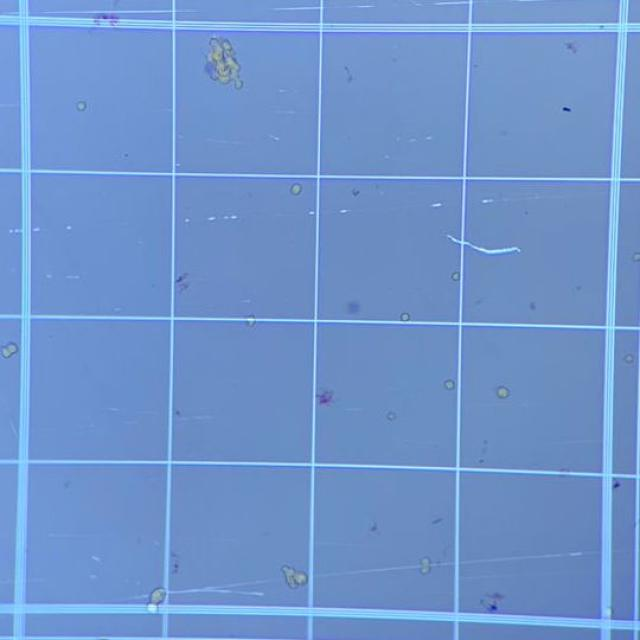Cell: (150, 586, 166, 605), (1, 342, 18, 359), (144, 603, 160, 619), (294, 571, 308, 587), (280, 564, 294, 579), (347, 301, 361, 314), (419, 553, 432, 567), (496, 386, 510, 398), (286, 577, 298, 590), (245, 314, 256, 328), (290, 183, 302, 195), (603, 605, 614, 618), (399, 312, 411, 323), (76, 101, 87, 112), (444, 378, 454, 389), (418, 568, 431, 576), (386, 411, 396, 421), (624, 354, 634, 364), (451, 271, 460, 281), (529, 302, 537, 310), (635, 252, 640, 262)
